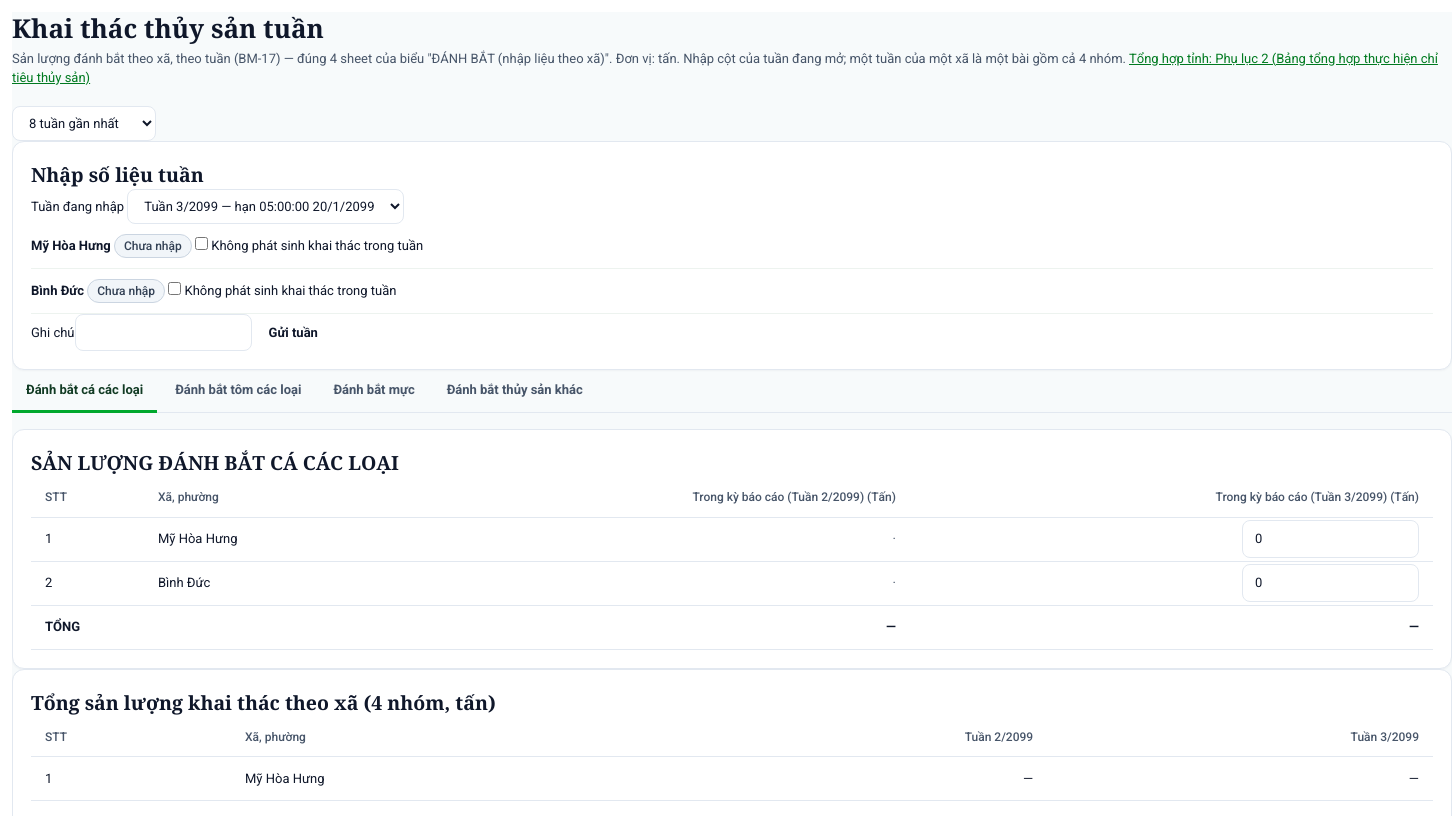
Test: màn Khai thác thủy sản tuần › lỗi mạng ở xã thứ hai: xã đã lưu hiện đã nộp, số chưa gửi giữ nguyên, bấm lại gửi tiếp không 409
The width and height of the screenshot is (1452, 816).
Replace the text in the field named "Đánh bắt cá các loại Mỹ Hòa Hưng Tuần 3/2099 (tấn)" with "2" at (1330, 539), box [1242,520,1419,558]
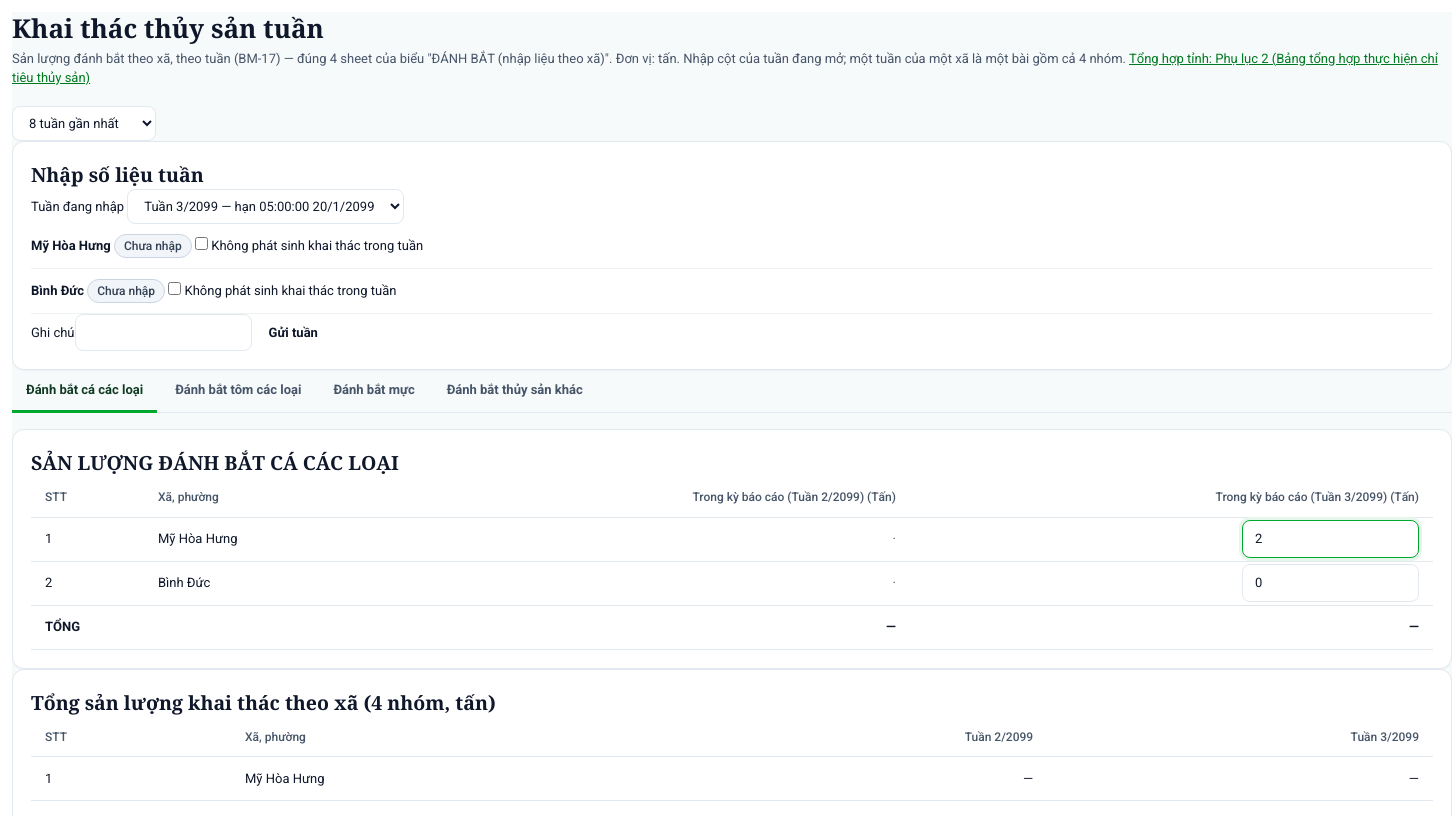
Replace the text in the field named "Đánh bắt cá các loại Bình Đức Tuần 3/2099 (tấn)" with "3,5" at (1330, 583), box [1242,564,1419,602]
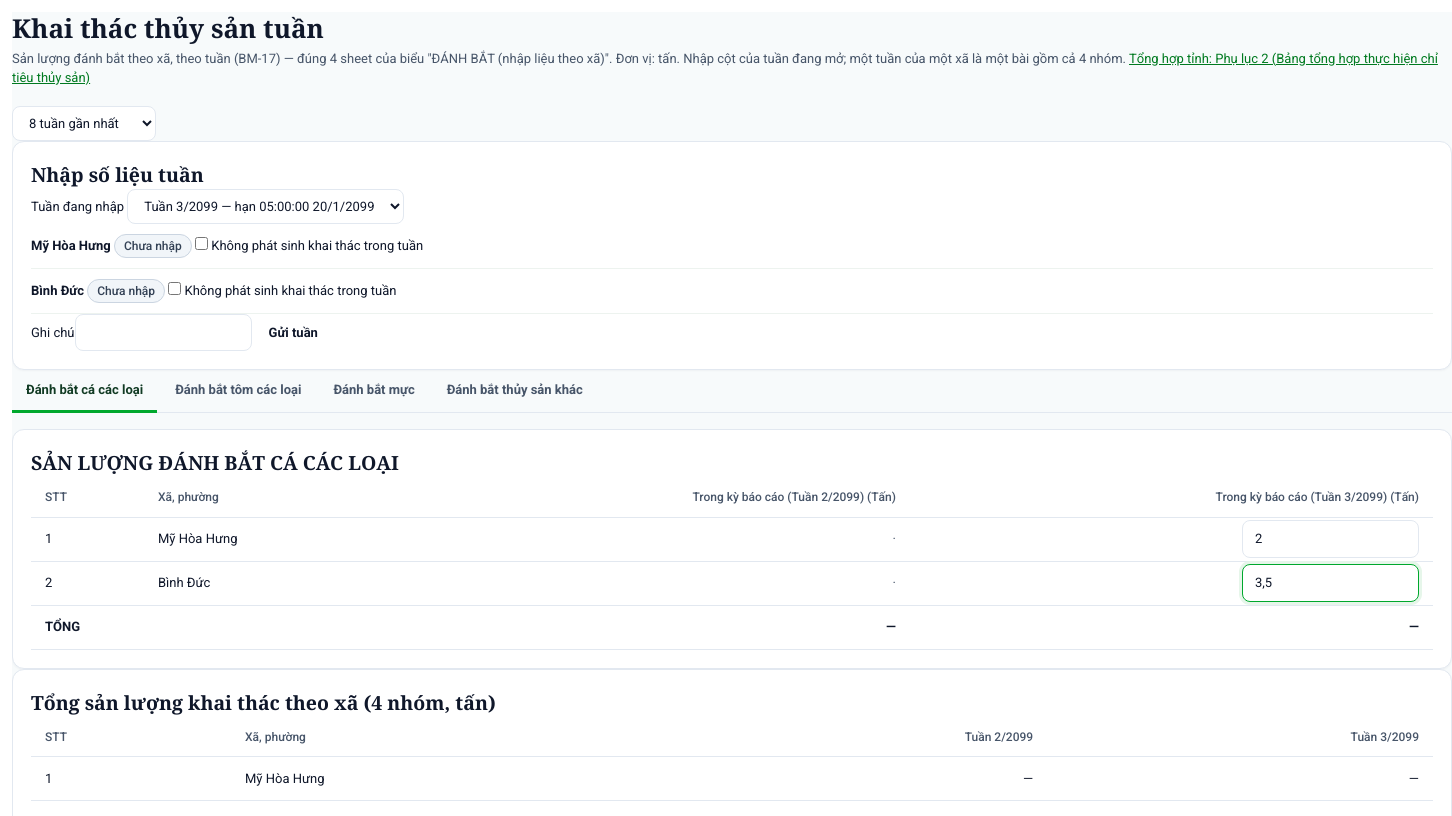
Click the button "Gửi tuần".
click(293, 333)  # box [252,314,335,351]
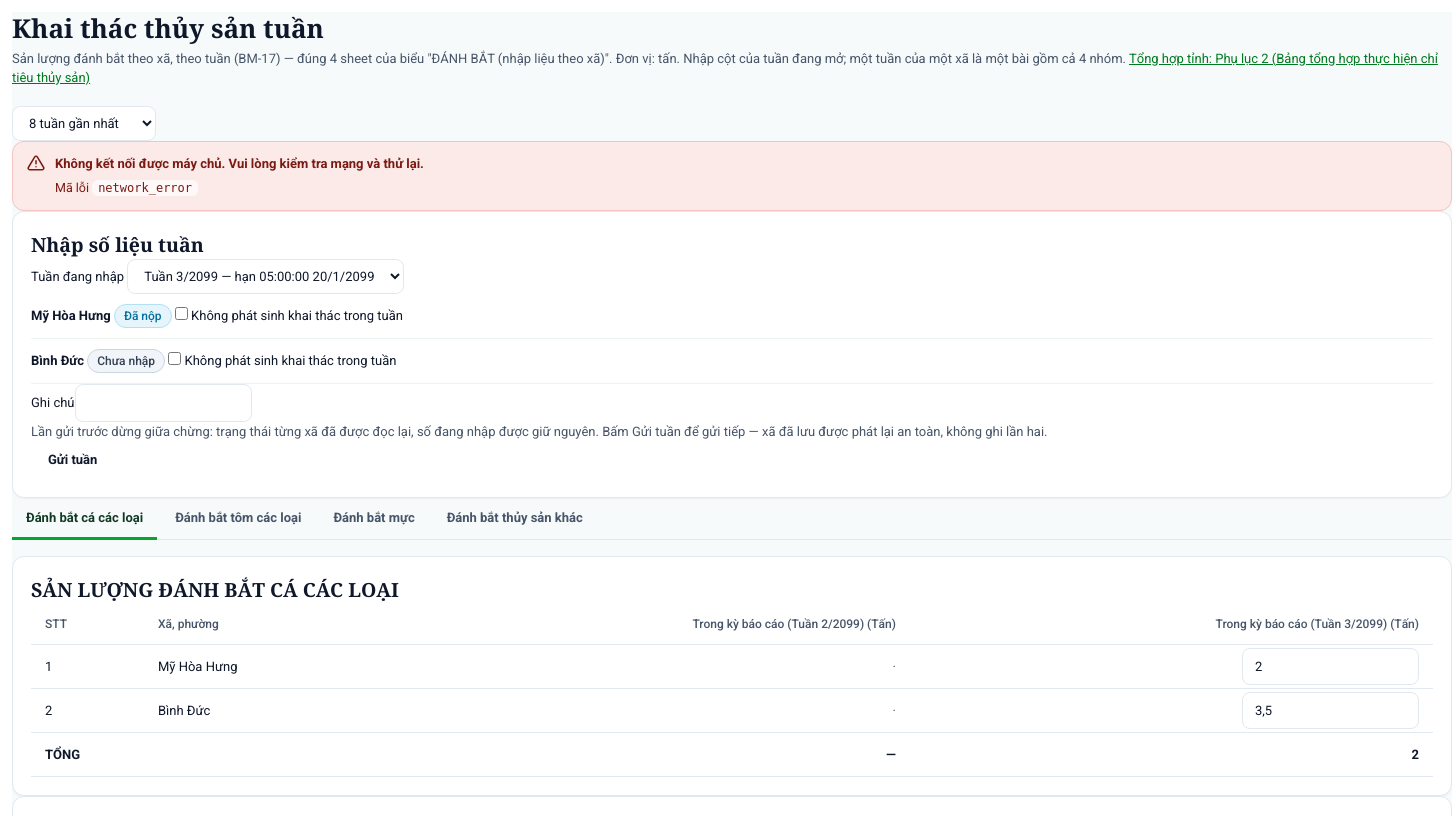
Result: the text "Đã nộp" is shown at [114,304,172,328]
Click the button "Gửi tuần".
click(73, 460)  # box [31,441,114,478]
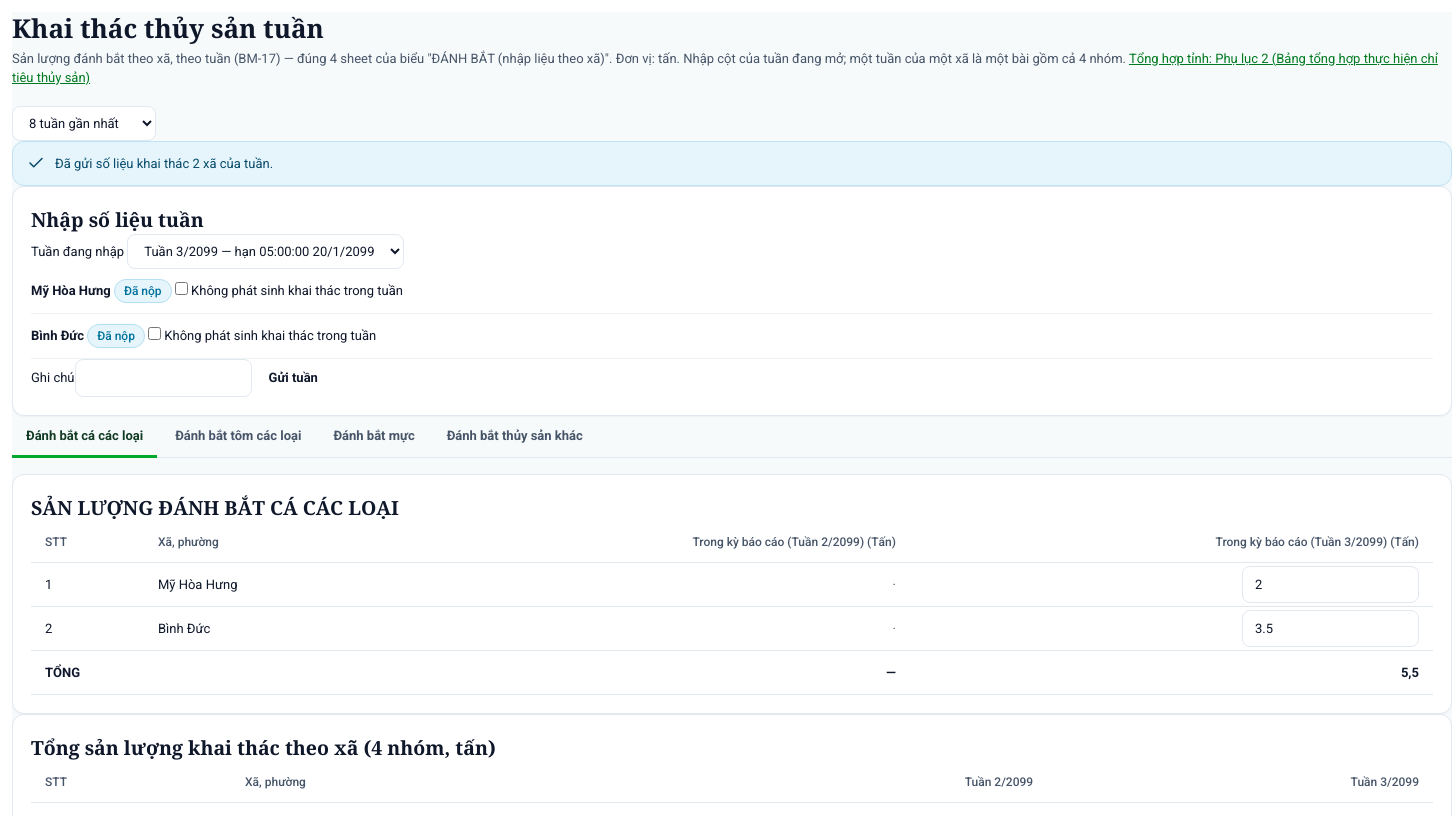
Result: the text "Đã gửi số liệu khai thác 2 xã của tuần." is shown at [55,154,273,173]
